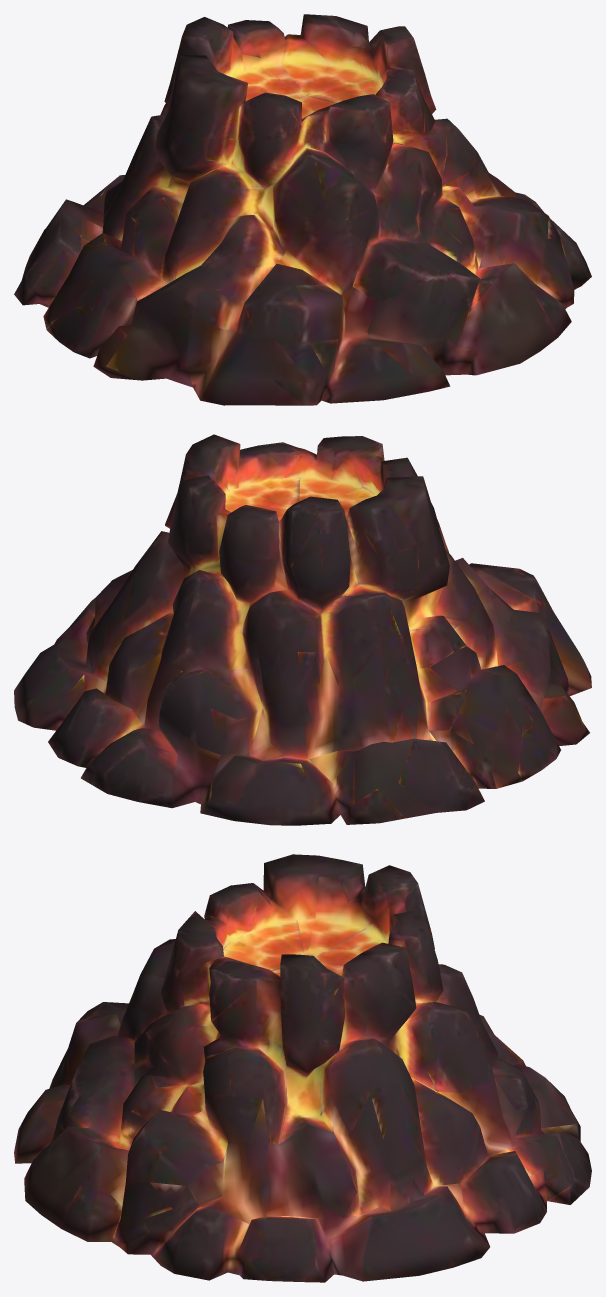
Rendered from lava_volcano_1_low.glb.
The picture shows the model from 3 angles, top to bottom: view 1: azimuth 30°, elevation 25°; view 2: azimuth 150°, elevation 25°; view 3: azimuth 270°, elevation 25°; orthographic projection. The views are drawn at different scales.
Visible parts, largest first — view 1: Mesh_0; view 2: Mesh_0; view 3: Mesh_0.
Boxes of the visible parts, left/top/right/bottom form: Mesh_0: left=14, top=14, right=591, bottom=405; Mesh_0: left=14, top=434, right=591, bottom=825; Mesh_0: left=14, top=854, right=591, bottom=1282.
Bounding box in the file's own units: 1 × 0.4864 × 1.
1 material, 1 textured.
